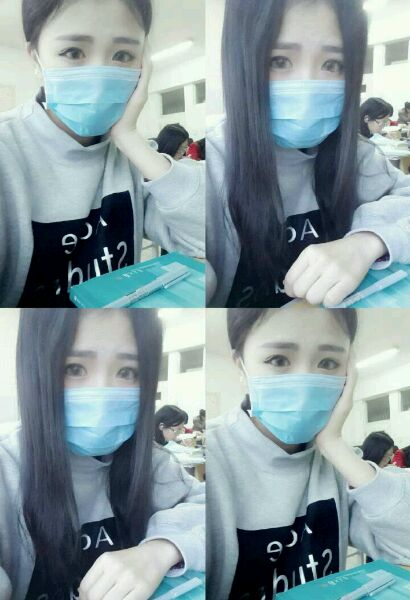face_mask: (39, 1, 144, 139), (244, 309, 350, 440), (256, 1, 345, 144), (54, 324, 143, 455)
